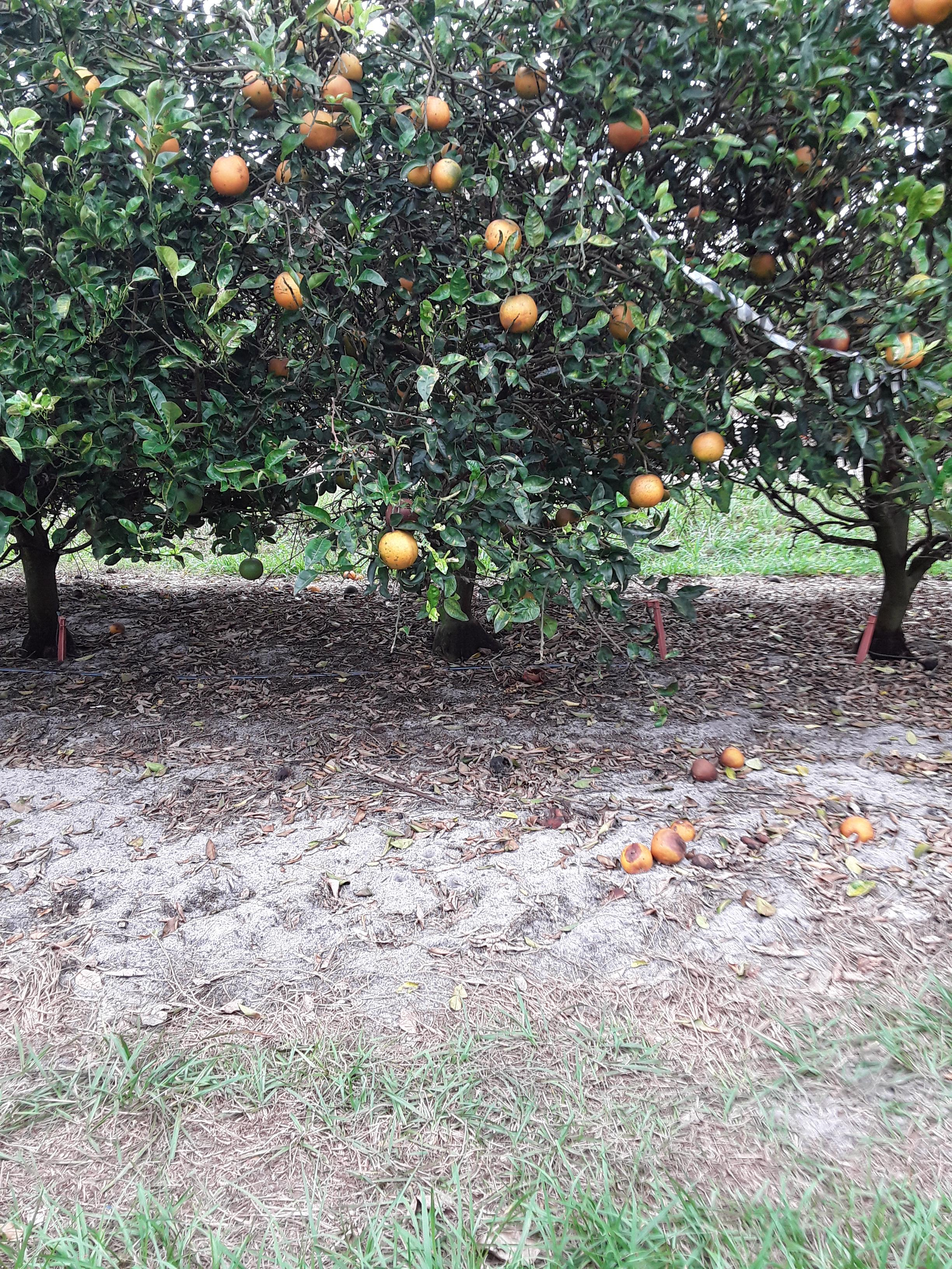fruit_on_ground: (606, 105, 651, 153), (56, 65, 104, 109), (130, 116, 180, 157), (882, 328, 928, 371), (208, 154, 252, 197), (606, 299, 648, 343), (497, 291, 539, 334), (376, 528, 420, 569), (235, 69, 276, 111), (688, 2, 737, 37), (379, 495, 424, 533), (483, 217, 524, 255), (898, 269, 940, 306), (38, 61, 76, 100), (627, 472, 666, 510), (831, 24, 871, 61), (272, 270, 308, 311), (812, 321, 854, 356), (690, 427, 728, 464), (168, 482, 205, 519), (513, 63, 550, 100), (301, 116, 339, 151), (788, 143, 826, 177), (418, 94, 452, 132), (386, 100, 424, 133), (430, 157, 464, 193), (272, 156, 309, 189), (481, 54, 516, 88), (747, 249, 781, 283), (319, 74, 354, 106), (319, 0, 359, 28), (779, 85, 816, 115), (911, 1, 952, 28), (271, 72, 306, 103), (382, 13, 415, 45), (340, 325, 373, 357), (331, 51, 365, 82), (845, 308, 880, 338), (546, 6, 579, 37), (888, 1, 922, 31), (153, 136, 186, 166), (296, 107, 328, 137), (673, 239, 705, 268), (279, 33, 314, 59), (850, 158, 880, 187), (553, 503, 583, 532), (682, 199, 714, 224), (404, 162, 432, 190), (332, 465, 360, 492), (334, 121, 362, 147), (394, 271, 422, 297), (438, 138, 467, 163), (489, 28, 516, 54), (238, 555, 265, 581), (266, 355, 294, 380), (755, 124, 782, 148), (387, 383, 413, 407), (604, 447, 631, 470), (532, 157, 558, 180), (546, 428, 570, 447), (259, 519, 279, 539)
fruit_on_tree: (650, 825, 687, 864), (618, 841, 654, 875), (837, 813, 875, 844), (688, 755, 719, 783), (718, 744, 746, 769), (672, 817, 698, 842), (542, 810, 565, 830), (521, 665, 545, 684), (107, 619, 126, 635), (343, 582, 359, 596), (305, 582, 323, 594), (342, 568, 355, 580), (354, 573, 365, 581)
